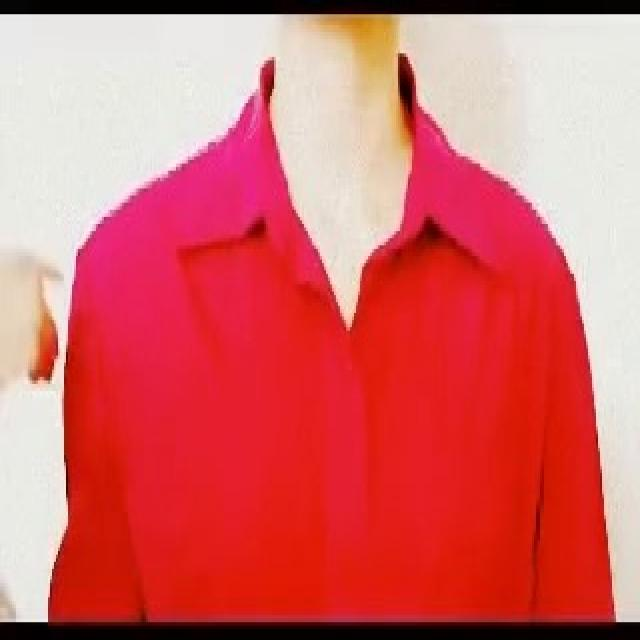Shirt: (47, 50, 617, 621)
